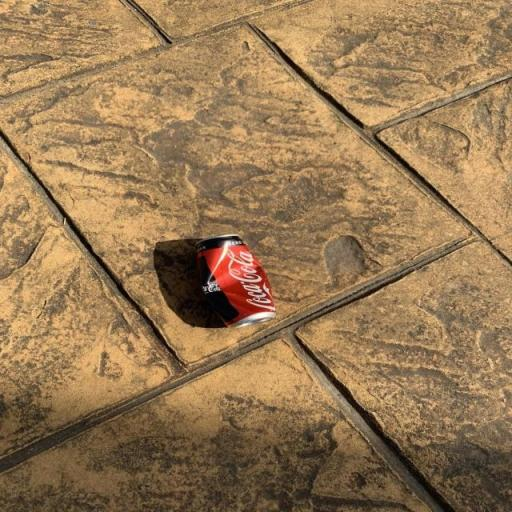metal: (181, 222, 302, 338)
